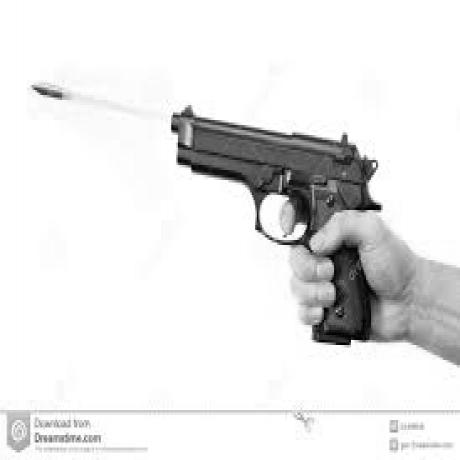Guns: (170, 102, 382, 356)
